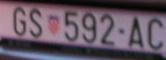-: (119, 28, 124, 34)
2: (100, 14, 114, 46)
5: (64, 11, 79, 41)
9: (82, 12, 97, 42)
A: (129, 17, 142, 49)
C: (148, 17, 163, 49)
G: (13, 7, 26, 36)
S: (30, 7, 42, 39)
